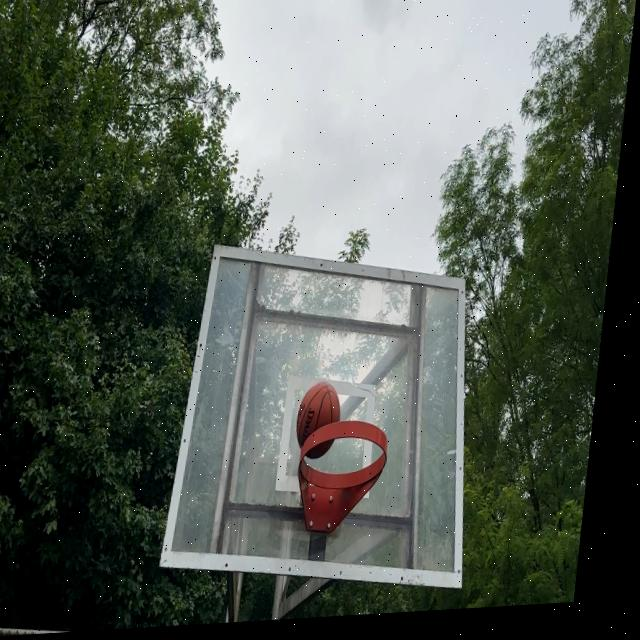rebound_hit: (293, 381, 345, 460)
